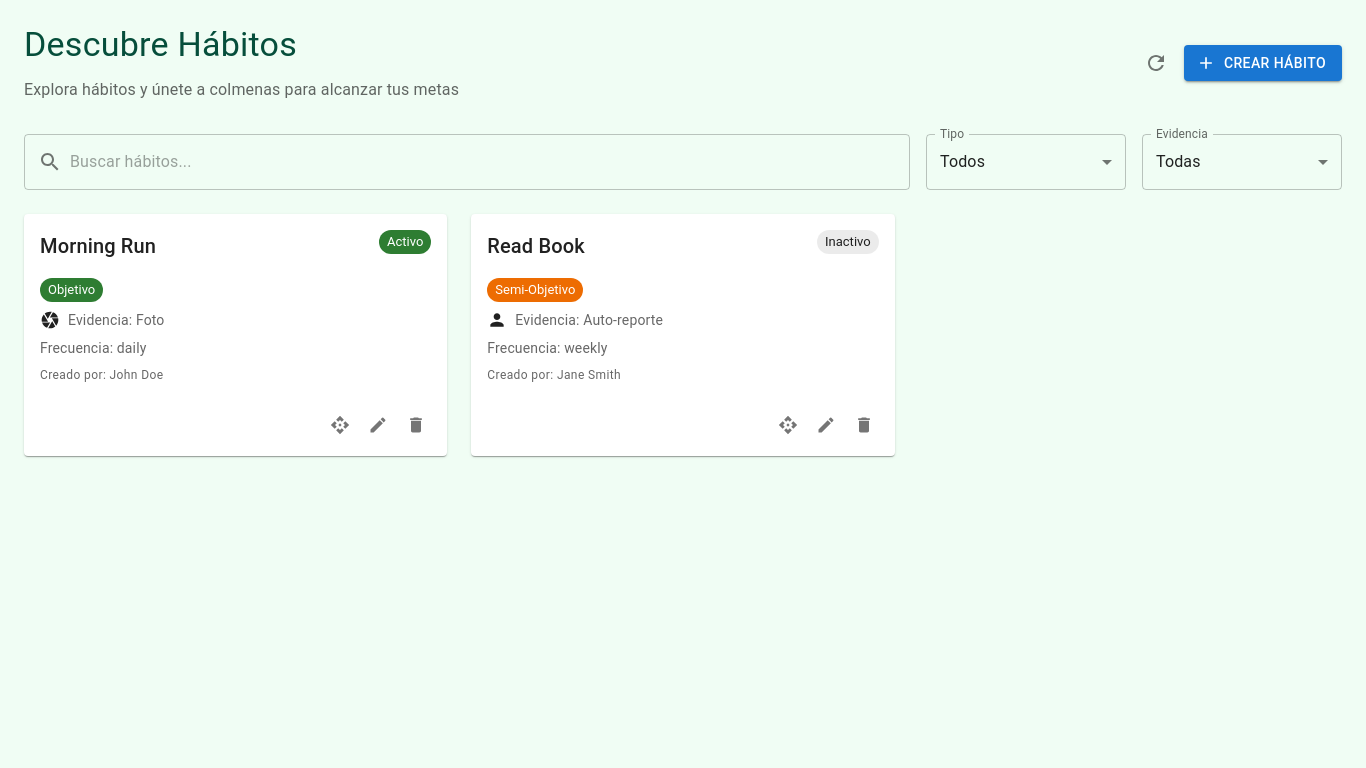
Test: HabitsPage › Delete Habit › should show delete confirmation dialog
Click the button with test id "DeleteIcon".
click(416, 425)  # box [401, 410, 431, 440]
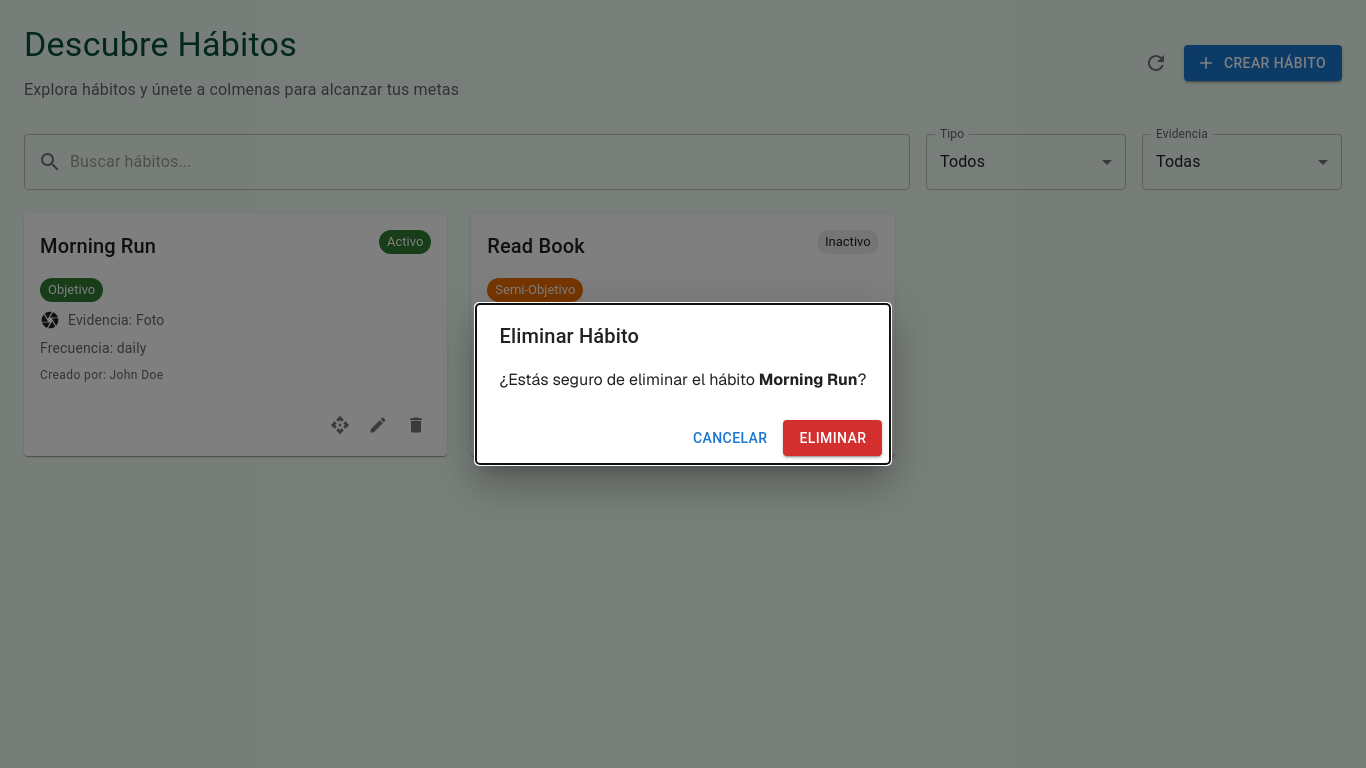
Now the heading "Eliminar Hábito" is shown, box [500, 324, 639, 348]
